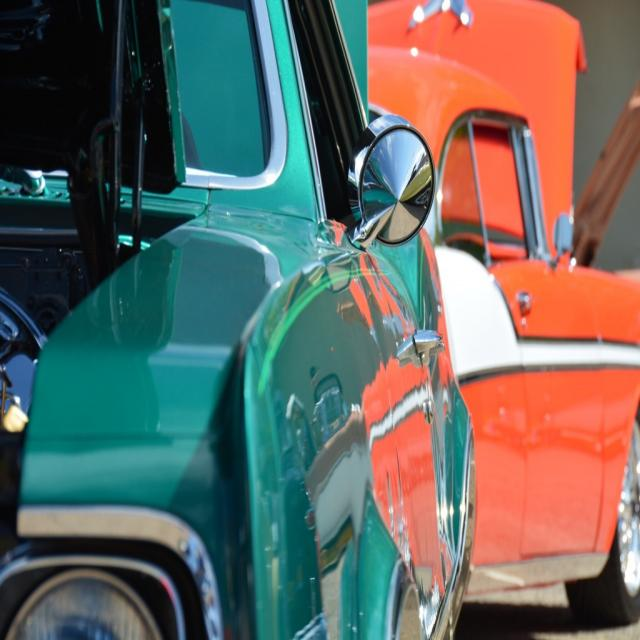other: (0, 0, 475, 639), (366, 0, 639, 627)
